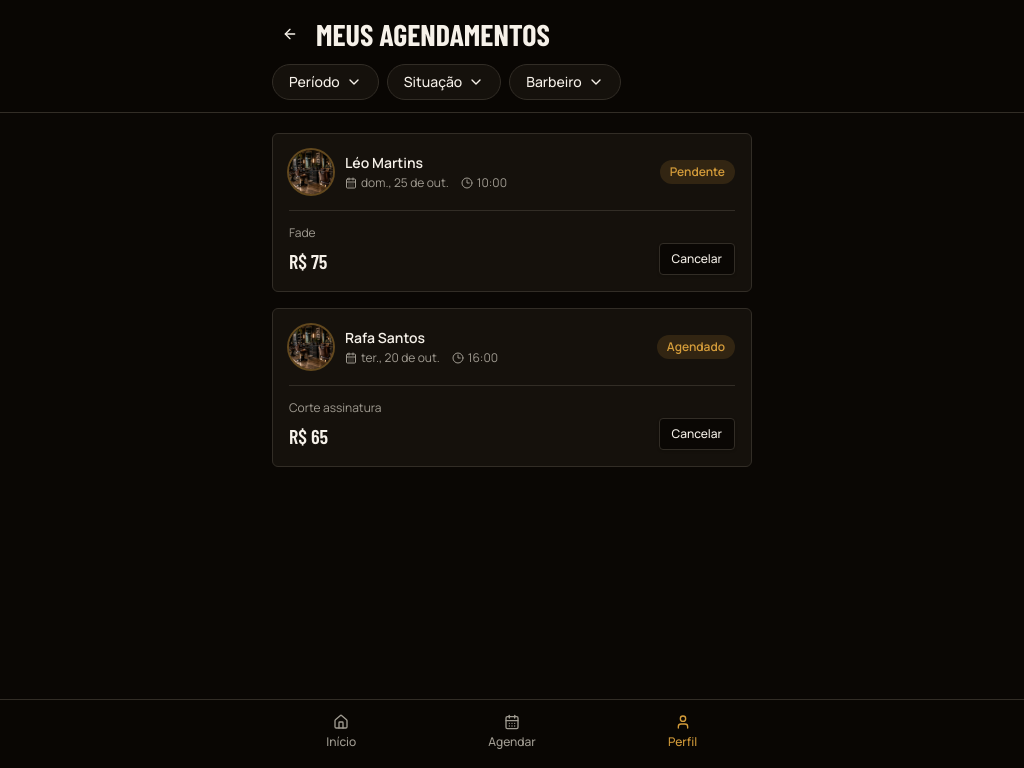
Scenario: ClientAppointments › cancels an open appointment through the store
Click the button "Cancelar" in the row of "R$ 75": (697, 259) [658,243,735,275]
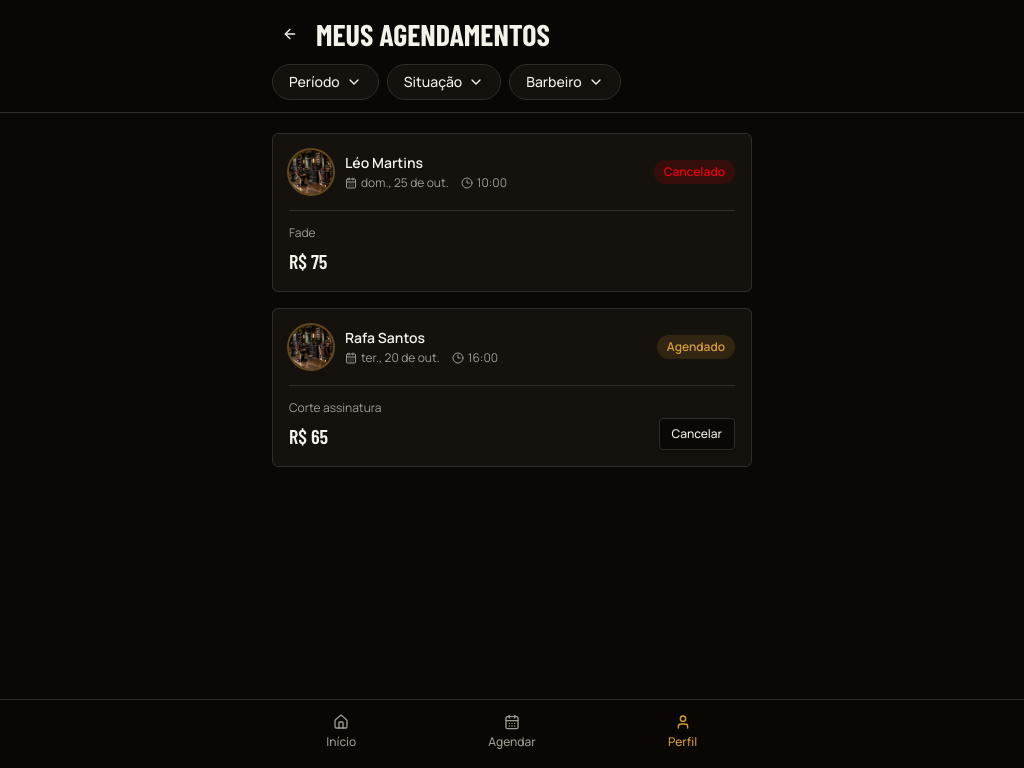
Check: the text "Cancelado" is shown, box [654,160,735,184]
